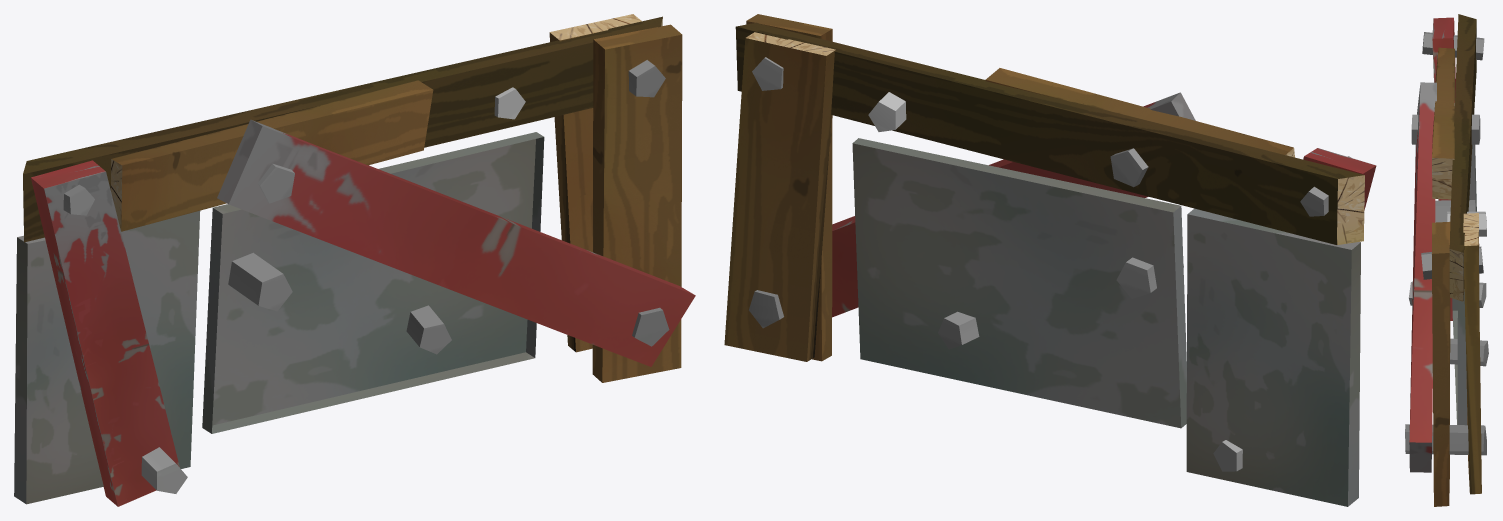
File: obj_manmade_scrapwallSmall.fbx
3 renders of one model, left to right at view 1: azimuth 30°, elevation 25°; view 2: azimuth 150°, elevation 25°; view 3: azimuth 270°, elevation 25°, orthographic. The views are drawn at different scales.
Visible parts, largest first — view 1: obj_manmade_scrapwallSmall_lod0; view 2: obj_manmade_scrapwallSmall_lod0; view 3: obj_manmade_scrapwallSmall_lod0.
Boxes of the visible parts, x1,y1,x2,y2 form: obj_manmade_scrapwallSmall_lod0: (14, 14, 695, 506); obj_manmade_scrapwallSmall_lod0: (724, 14, 1376, 506); obj_manmade_scrapwallSmall_lod0: (1405, 14, 1488, 506).
Size of the model in its own units: 8.05 by 4.31 by 1.2.
